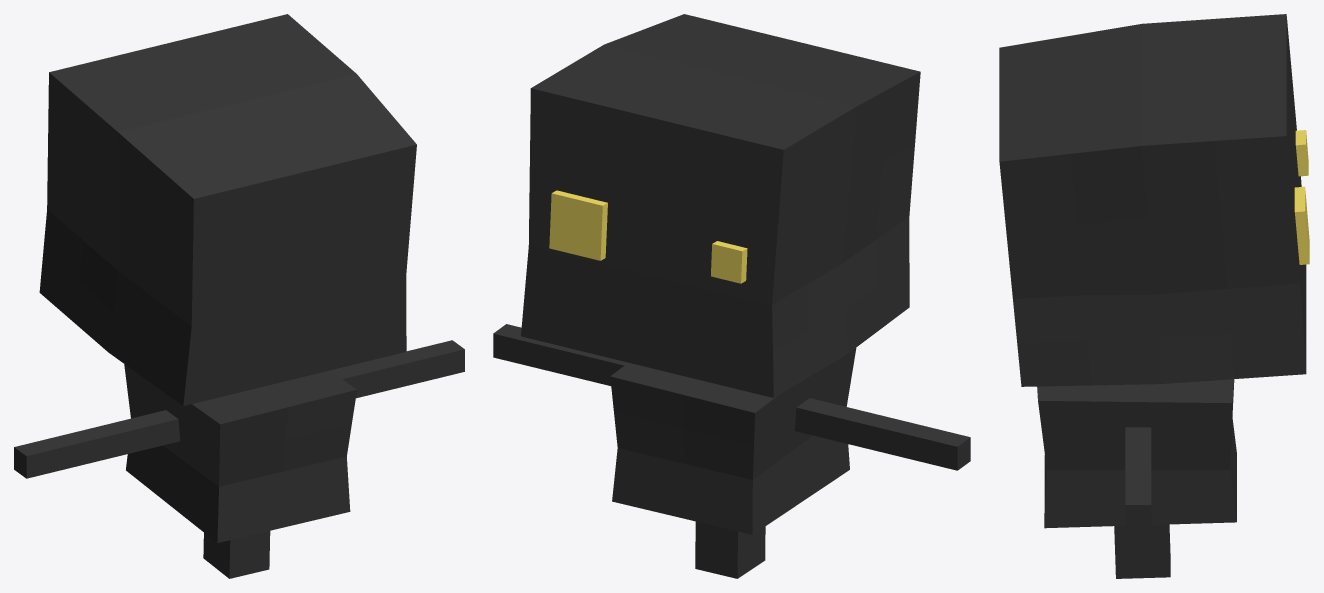
The model's file is Dummy.fbx.
3 renders of one model, left to right at view 1: azimuth 30°, elevation 25°; view 2: azimuth 150°, elevation 25°; view 3: azimuth 270°, elevation 25°, orthographic. The views are drawn at different scales.
Visible parts, largest first — view 1: Dummy; view 2: Dummy; view 3: Dummy.
Boxes of the visible parts, left/top/right/bottom form: Dummy: left=14, top=14, right=464, bottom=578; Dummy: left=493, top=14, right=970, bottom=578; Dummy: left=999, top=14, right=1309, bottom=578.
Size of the model in its own units: 0.3155 by 0.5395 by 0.5545.
